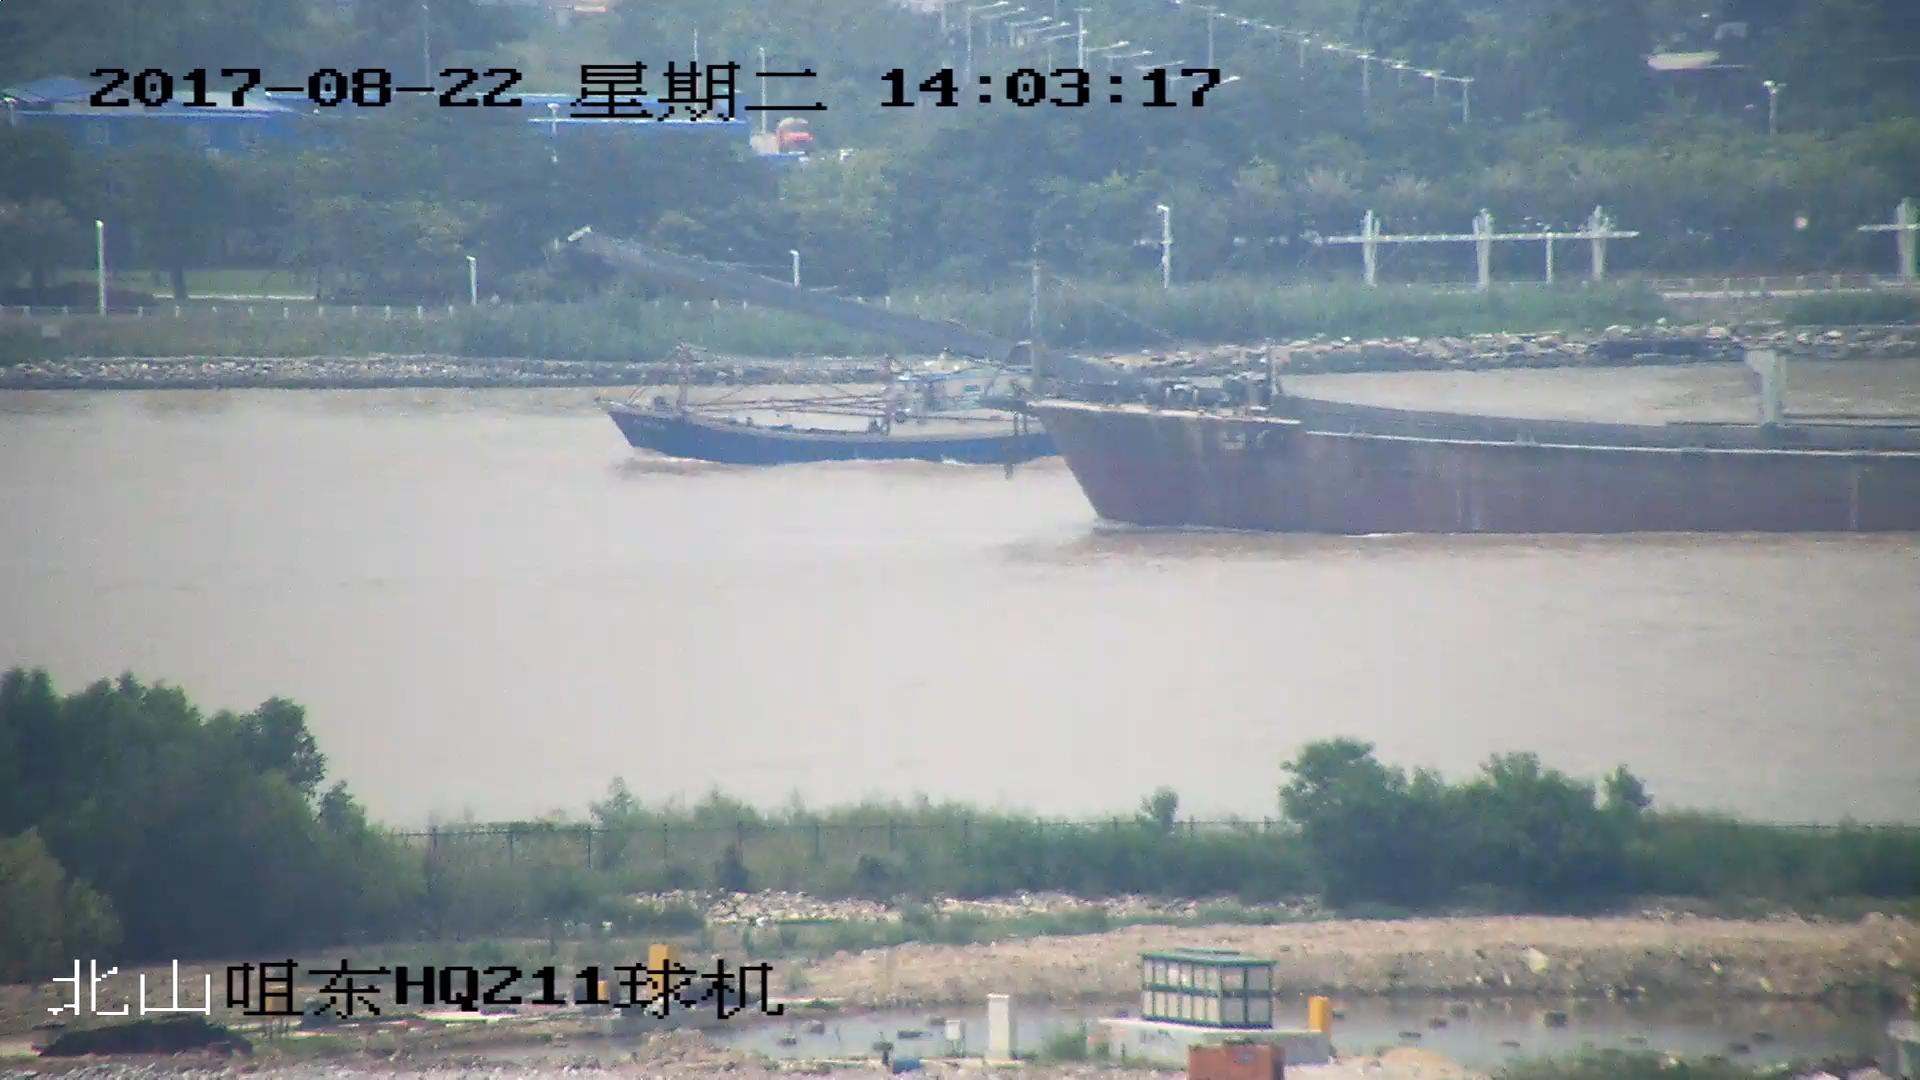Ship: (568, 233, 1920, 538), (605, 349, 1062, 468)
